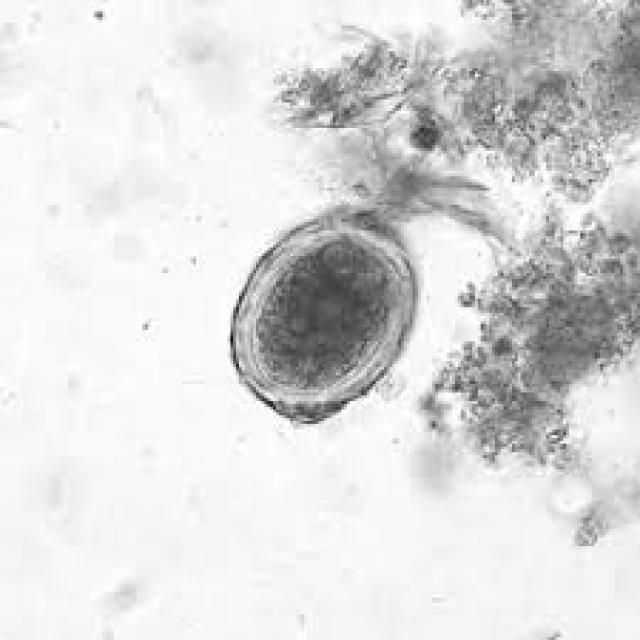Ascaris Lumbricoides: (217, 202, 432, 438)
